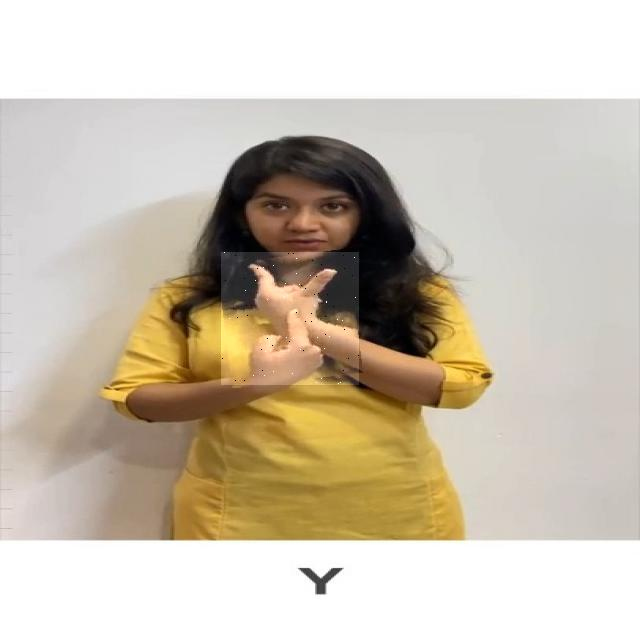Y: (221, 252, 359, 385)
